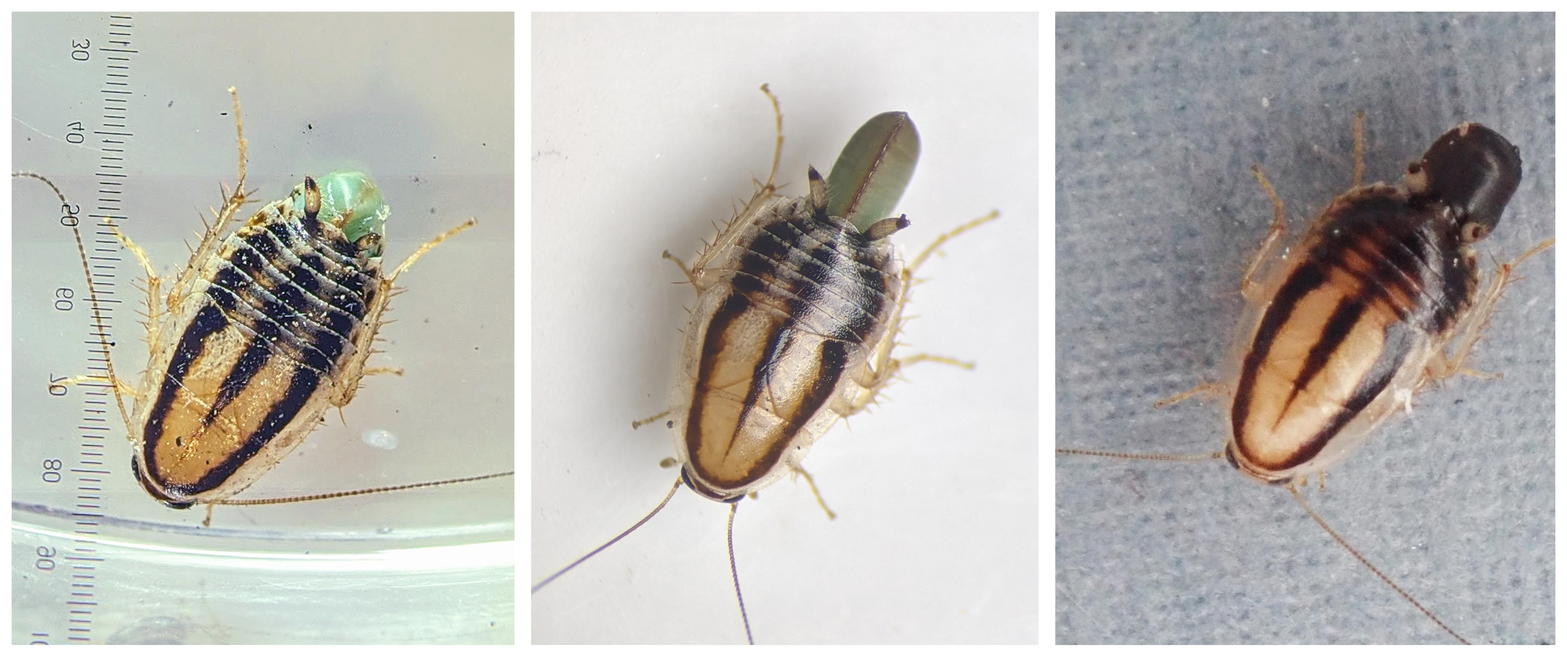cockroach: (125, 155, 396, 516), (667, 169, 919, 509), (1218, 168, 1481, 493)
